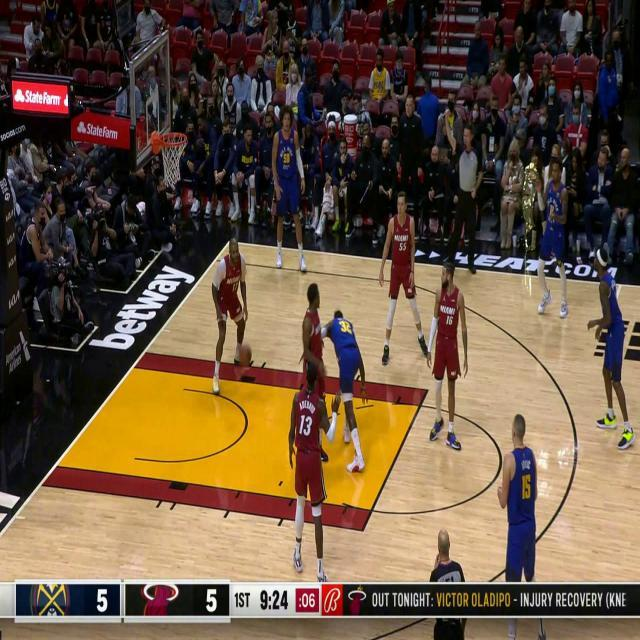rim: (238, 343, 252, 369)
